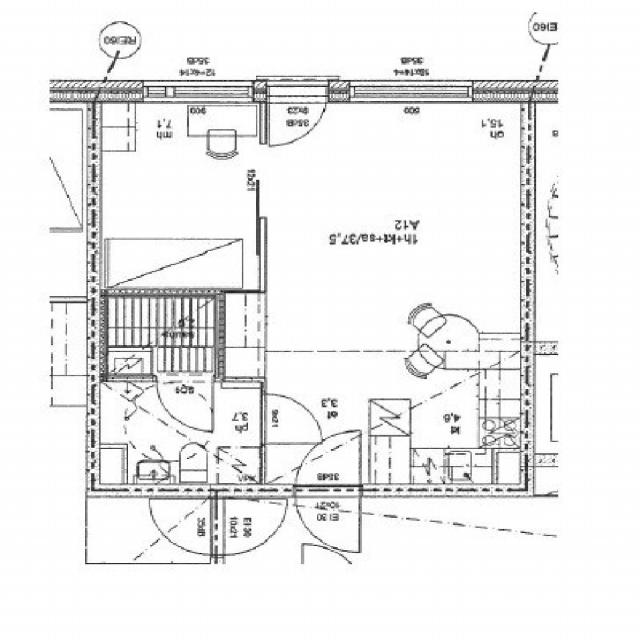door: (295, 484, 360, 553), (295, 427, 360, 496), (270, 86, 326, 150), (261, 394, 322, 444), (157, 377, 213, 431)
